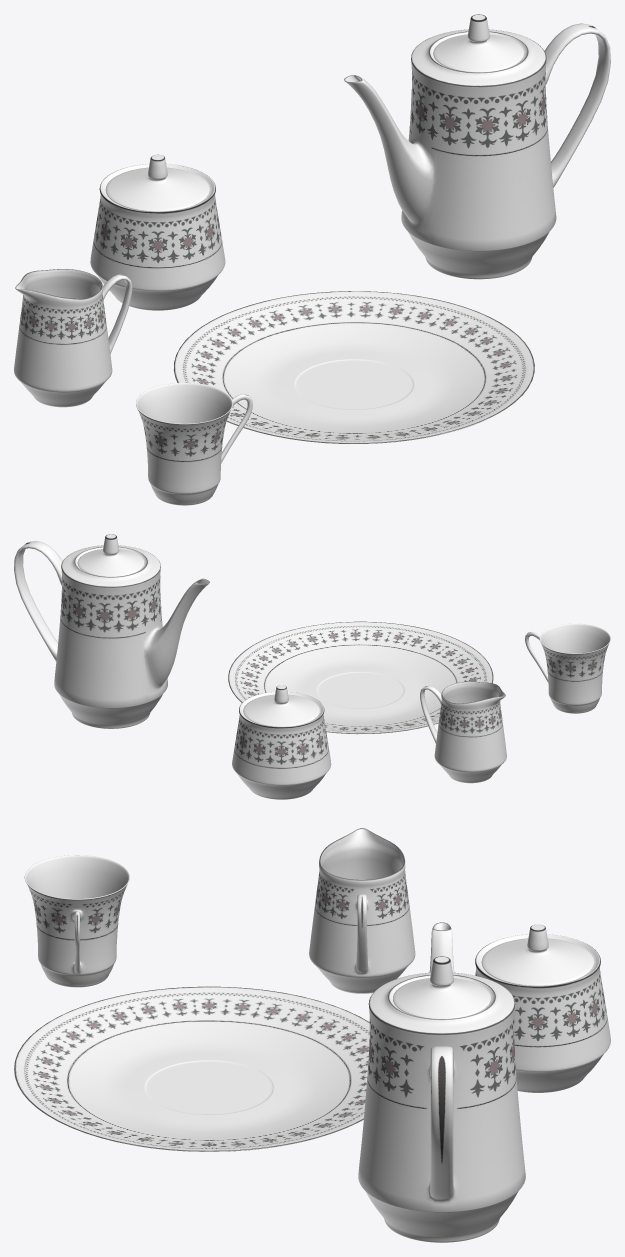
Rendered from porcelain_tea_set.glb.
The picture shows the model from 3 angles, top to bottom: view 1: azimuth 30°, elevation 25°; view 2: azimuth 150°, elevation 25°; view 3: azimuth 270°, elevation 25°; orthographic projection. The views are drawn at different scales.
Visible parts, largest first — view 1: Plate_LP, Teapot_LP, Sugar_bowl_LP, Creamer_LP, Cup_HP_LP, Sugar_bowl_cap_LP, Teapot_cap_LP; view 2: Plate_LP, Teapot_LP, Sugar_bowl_LP, Creamer_LP, Cup_HP_LP, Sugar_bowl_cap_LP, Teapot_cap_LP; view 3: Plate_LP, Teapot_LP, Creamer_LP, Cup_HP_LP, Sugar_bowl_LP, Sugar_bowl_cap_LP, Teapot_cap_LP.
Boxes of the visible parts, <box> form: Plate_LP: <box>173,291,534,443</box>; Teapot_LP: <box>344,23,610,279</box>; Sugar_bowl_LP: <box>90,163,225,310</box>; Creamer_LP: <box>14,269,132,407</box>; Cup_HP_LP: <box>136,383,252,505</box>; Sugar_bowl_cap_LP: <box>105,154,209,211</box>; Teapot_cap_LP: <box>433,14,524,72</box>; Plate_LP: <box>228,621,493,734</box>; Teapot_LP: <box>14,541,209,728</box>; Sugar_bowl_LP: <box>232,692,331,799</box>; Creamer_LP: <box>420,681,506,783</box>; Cup_HP_LP: <box>525,623,610,713</box>; Sugar_bowl_cap_LP: <box>243,685,319,726</box>; Teapot_cap_LP: <box>77,534,144,576</box>; Plate_LP: <box>14,986,369,1151</box>; Teapot_LP: <box>358,922,525,1242</box>; Creamer_LP: <box>309,828,415,993</box>; Cup_HP_LP: <box>24,855,129,987</box>; Sugar_bowl_LP: <box>475,934,610,1092</box>; Sugar_bowl_cap_LP: <box>481,924,594,985</box>; Teapot_cap_LP: <box>393,956,490,1019</box>.
Size of the model in its own units: 0.5148 by 0.1863 by 0.3888.
1 material, 1 textured.
